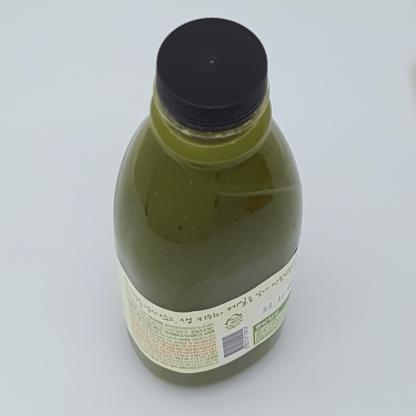-----------700ML: (113, 18, 302, 389)
